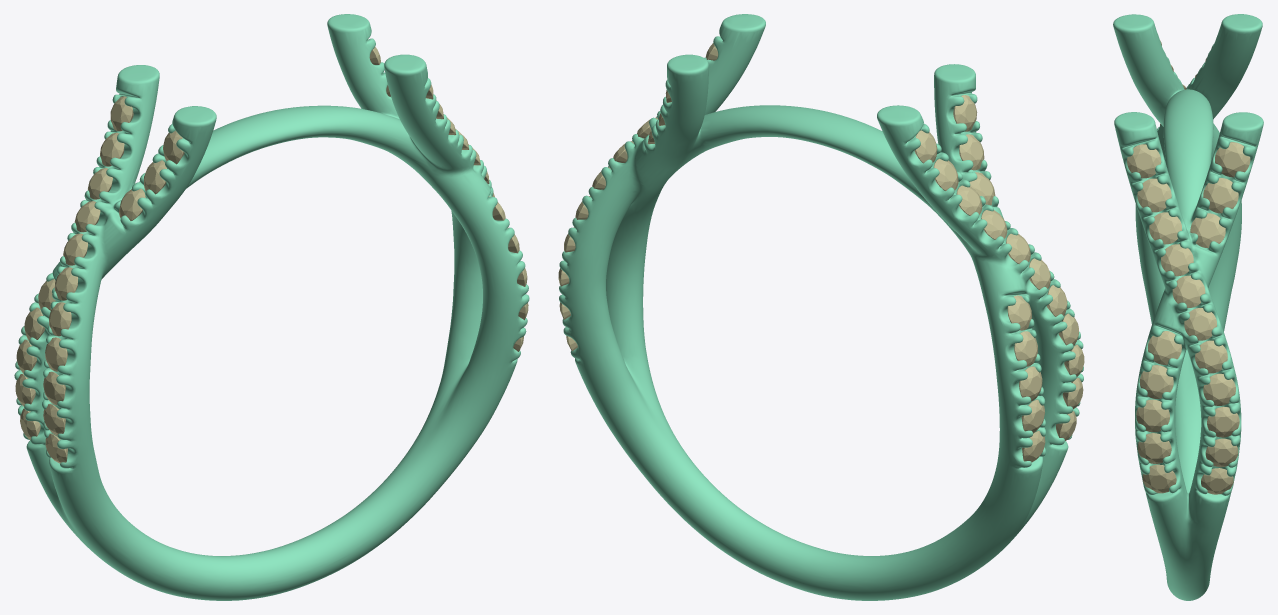
The picture shows the model from 3 angles, left to right: view 1: azimuth 30°, elevation 25°; view 2: azimuth 150°, elevation 25°; view 3: azimuth 270°, elevation 25°; orthographic projection. The views are drawn at different scales.
Parts seen in each view (by area): view 1: Metal02; view 2: Metal02; view 3: Metal02, Diamond_Gem.017, Diamond_Gem.018, Diamond_Gem.016, Diamond_Gem.001, Diamond_Gem, Diamond_Gem.003, Diamond_Gem.002, Diamond_Gem.004, Diamond_Gem.032, Diamond_Gem.033, Diamond_Gem.034 (+8 smaller).
Boxes of the visible parts, x1=… form: Metal02: x1=14, y1=14, x2=529, y2=600; Metal02: x1=559, y1=14, x2=1083, y2=600; Metal02: x1=1113, y1=14, x2=1263, y2=600; Diamond_Gem.017: x1=1203, y1=178, x2=1238, y2=213; Diamond_Gem.018: x1=1215, y1=142, x2=1250, y2=177; Diamond_Gem.016: x1=1190, y1=213, x2=1225, y2=247; Diamond_Gem.001: x1=1137, y1=178, x2=1171, y2=212; Diamond_Gem: x1=1127, y1=144, x2=1161, y2=178; Diamond_Gem.003: x1=1139, y1=365, x2=1173, y2=398; Diamond_Gem.002: x1=1148, y1=331, x2=1181, y2=364; Diamond_Gem.004: x1=1136, y1=399, x2=1169, y2=432; Diamond_Gem.032: x1=1195, y1=340, x2=1227, y2=373; Diamond_Gem.033: x1=1184, y1=308, x2=1216, y2=340; Diamond_Gem.034: x1=1172, y1=275, x2=1205, y2=307.
Bounding box in the file's own units: 21.28 × 22.06 × 5.96.
